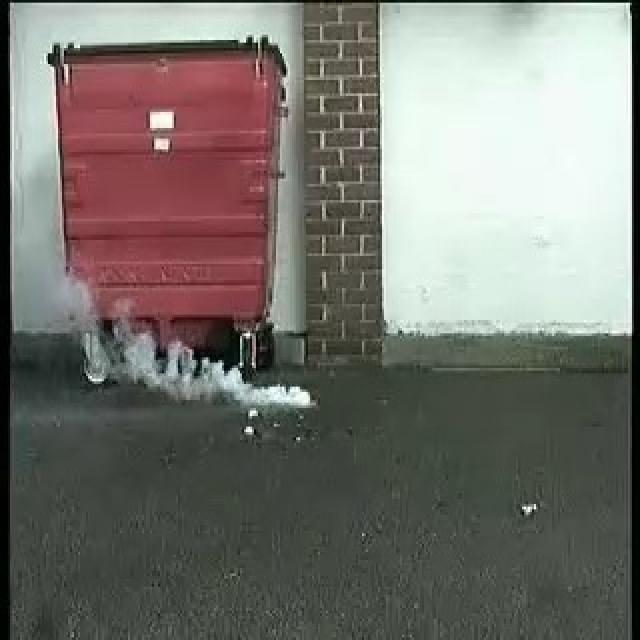smoke: (94, 302, 308, 406)
